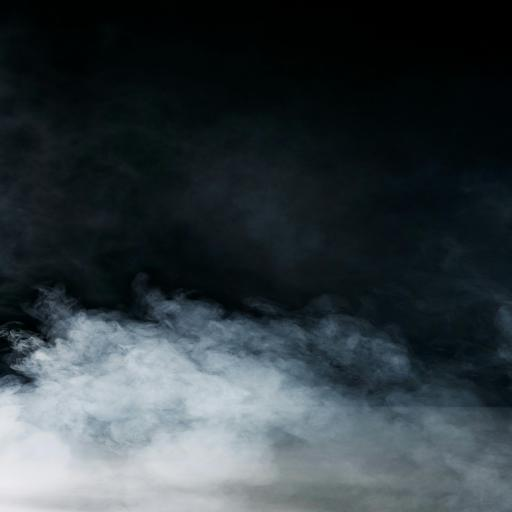smoke: (1, 271, 452, 512)
